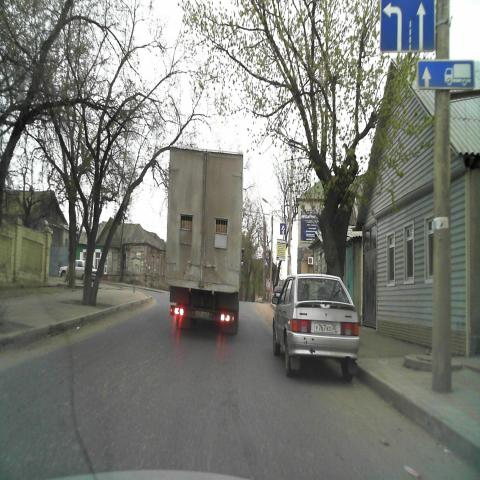6_15_1: (418, 59, 474, 90)
